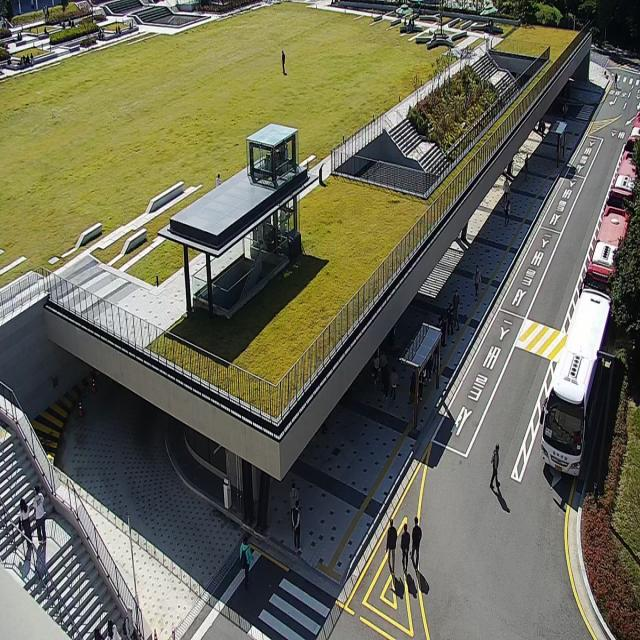queue: (415, 290, 461, 426)
